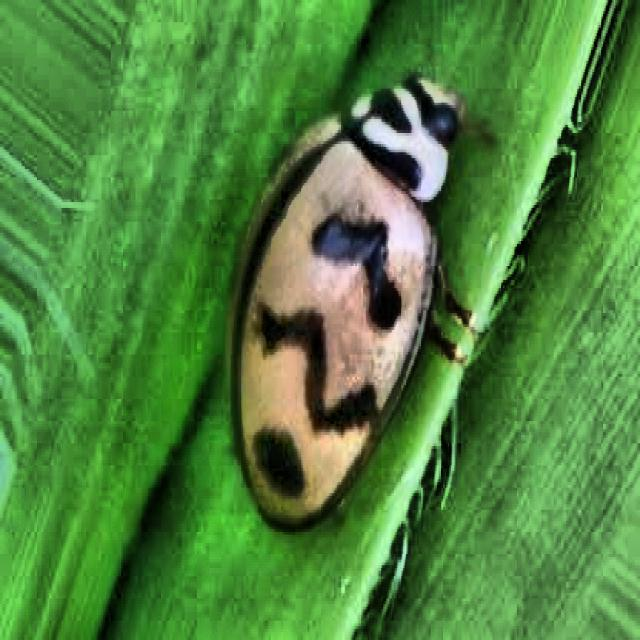Asian-Lady-beetle: (180, 77, 506, 554)
